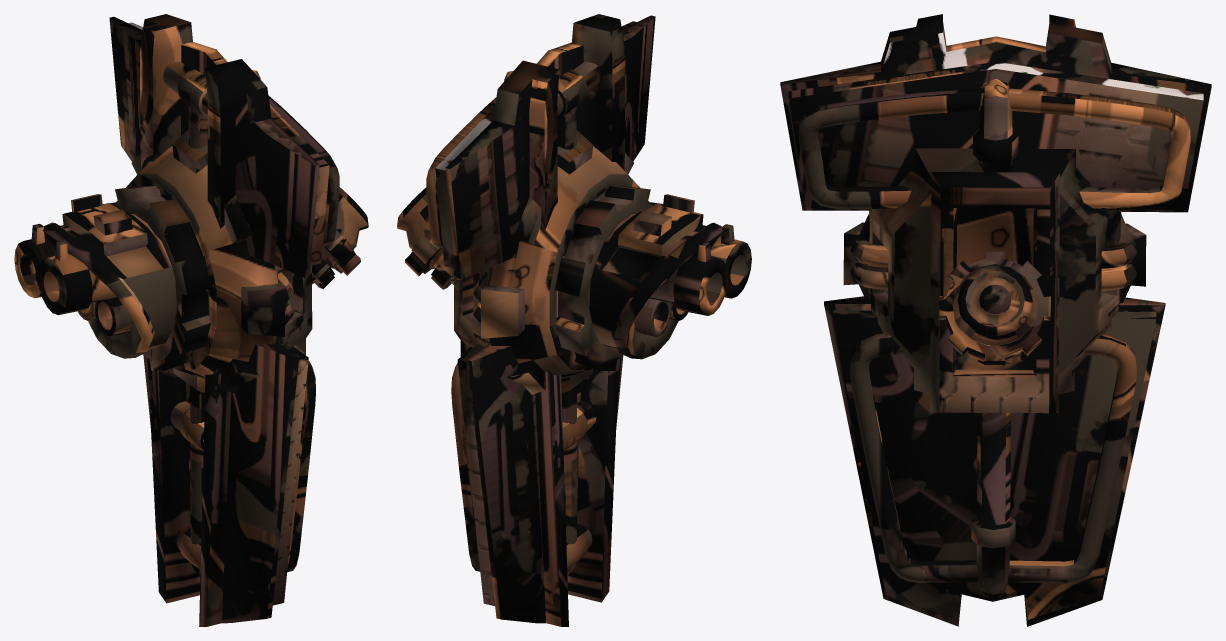
File: tank_p2.fbx
3 renders of one model, left to right at view 1: azimuth 30°, elevation 25°; view 2: azimuth 150°, elevation 25°; view 3: azimuth 270°, elevation 25°, orthographic. The views are drawn at different scales.
Visible parts, largest first — view 1: hero3_body.002; view 2: hero3_body.002; view 3: hero3_body.002.
Boxes of the visible parts, box(x1,y1,x2,y2) form: hero3_body.002: box(14, 14, 368, 626); hero3_body.002: box(397, 14, 751, 626); hero3_body.002: box(780, 14, 1211, 626).
Size of the model in its own units: 155 by 260 by 171.
